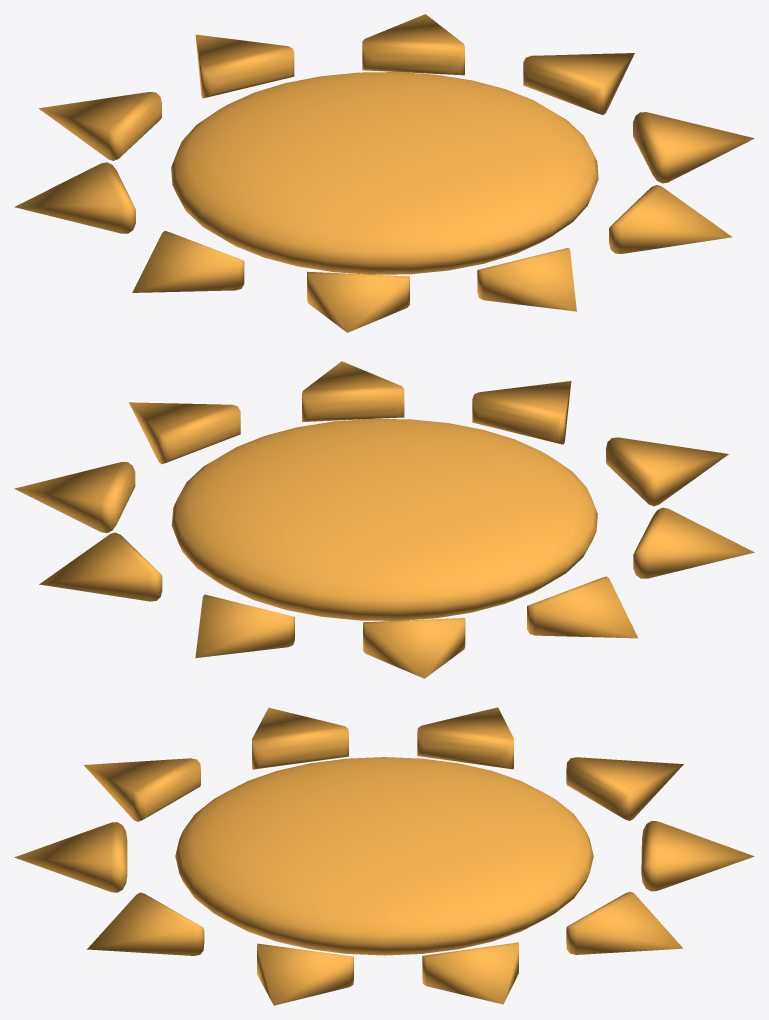
File: Solecito.fbx
3 views of the same model, one above another, from view 1: azimuth 30°, elevation 25°; view 2: azimuth 150°, elevation 25°; view 3: azimuth 270°, elevation 25° (orthographic). The views are drawn at different scales.
Parts seen in each view (by area): view 1: Sol, Rayos; view 2: Sol, Rayos; view 3: Sol, Rayos.
Boxes of the visible parts, x1=… form: Sol: x1=171, y1=72, x2=598, y2=274; Rayos: x1=14, y1=14, x2=754, y2=332; Sol: x1=171, y1=419, x2=597, y2=620; Rayos: x1=14, y1=361, x2=754, y2=678; Sol: x1=175, y1=757, x2=593, y2=955; Rayos: x1=14, y1=707, x2=754, y2=1005.
Bounding box in the file's own units: 338 × 48.34 × 354.
